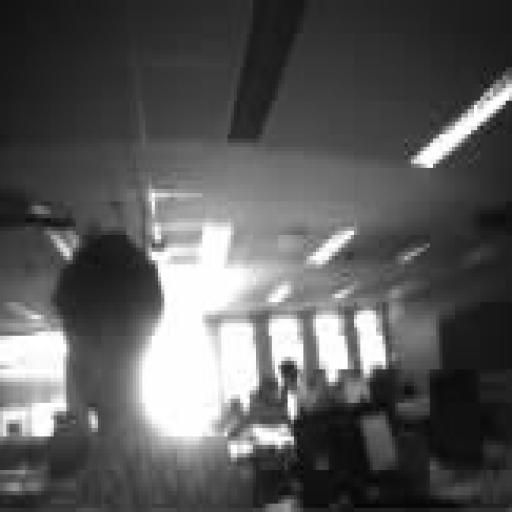human: (54, 231, 252, 511), (268, 360, 308, 427)
